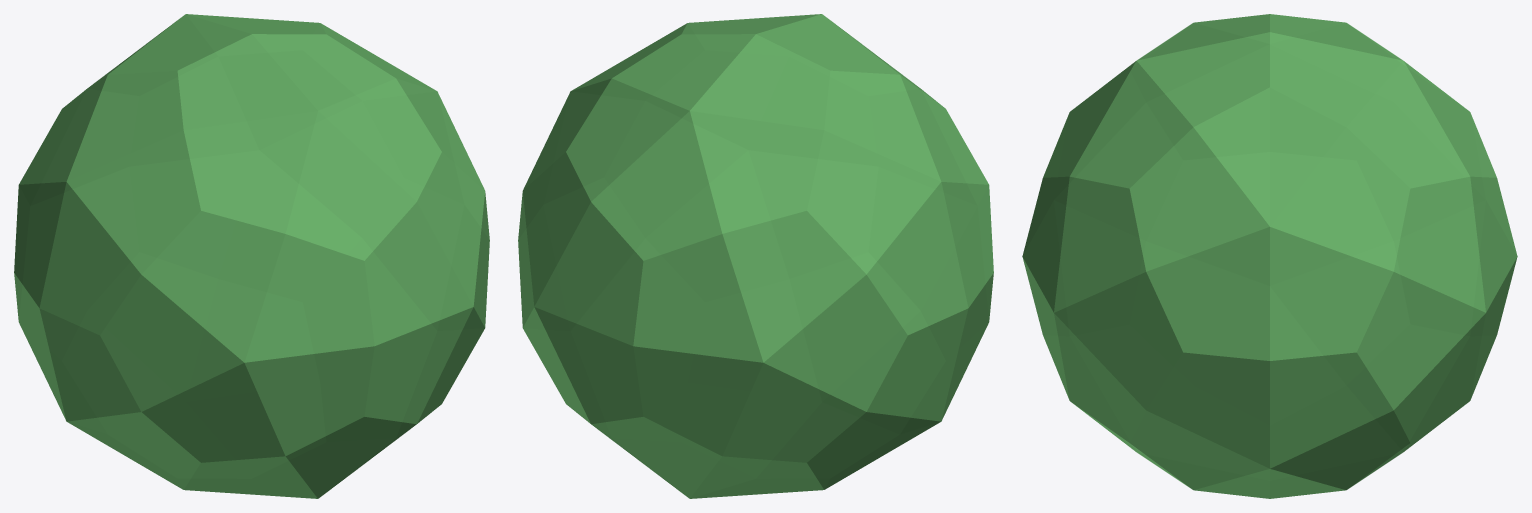
Rendered from DeltoidalHexecontahedron.obj.
3 renders of one model, left to right at view 1: azimuth 30°, elevation 25°; view 2: azimuth 150°, elevation 25°; view 3: azimuth 270°, elevation 25°, orthographic.
Size of the model in its own units: 4.47 by 4.47 by 4.47.
